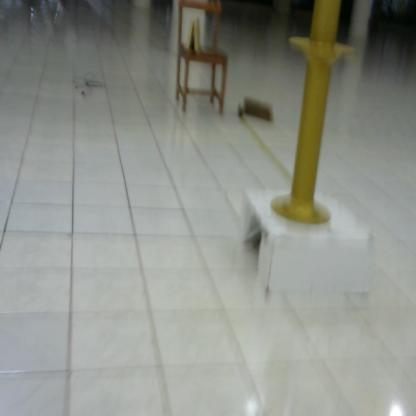pole: (267, 1, 364, 228)
